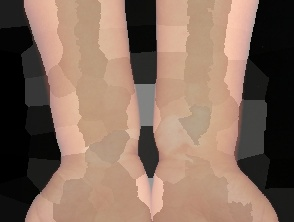vitiligo: (21, 0, 156, 222), (149, 0, 283, 222)
